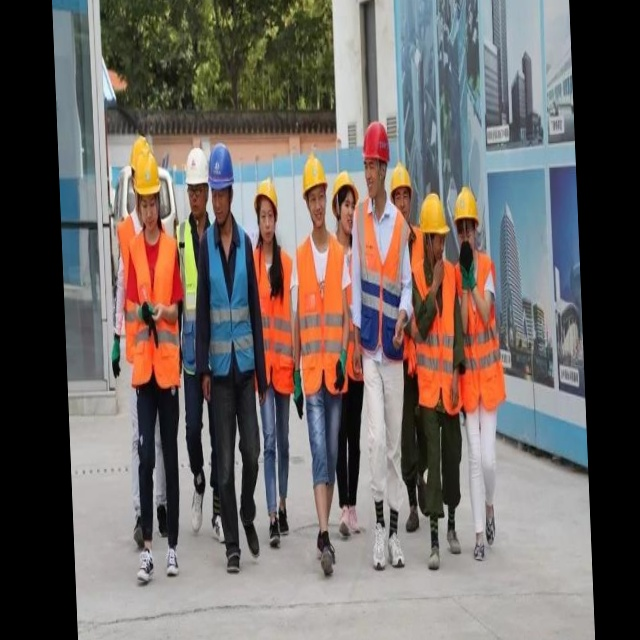Con_Chaleco: (292, 227, 352, 399), (125, 227, 183, 395), (352, 203, 412, 360), (452, 257, 503, 415)
